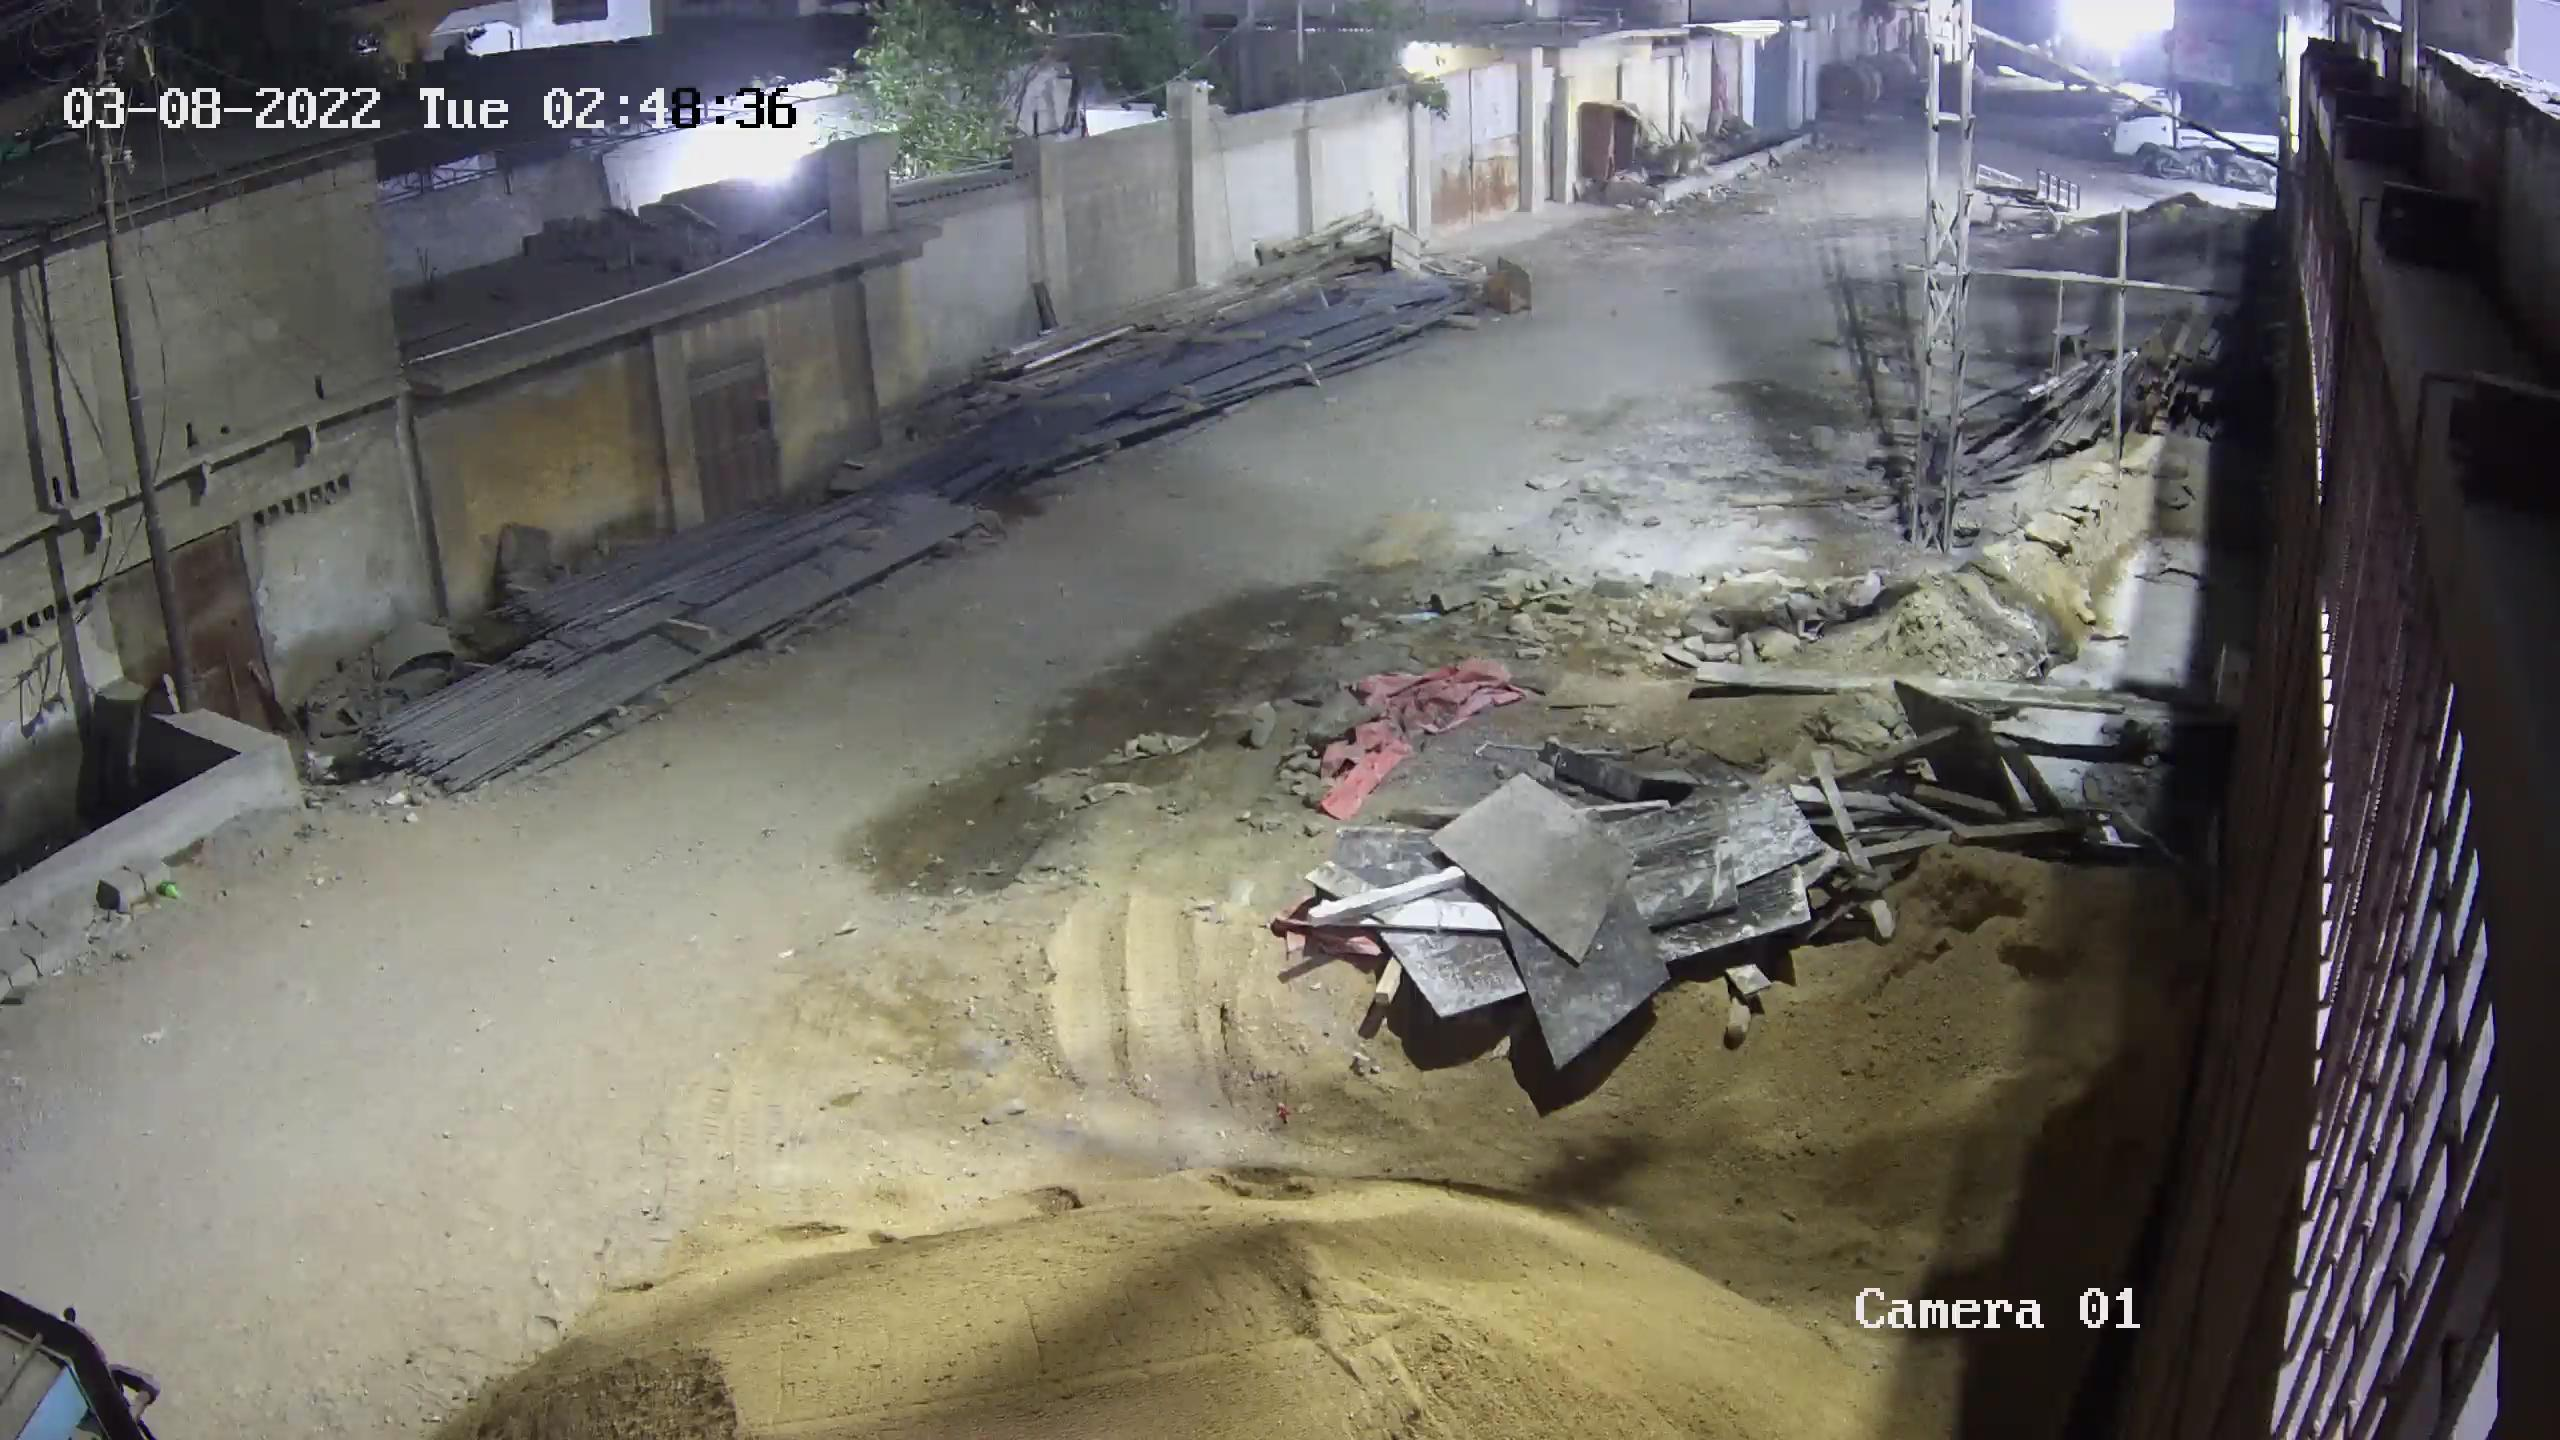Ltv: (2106, 88, 2279, 158)
bike: (2157, 144, 2217, 183), (2224, 155, 2277, 193)
